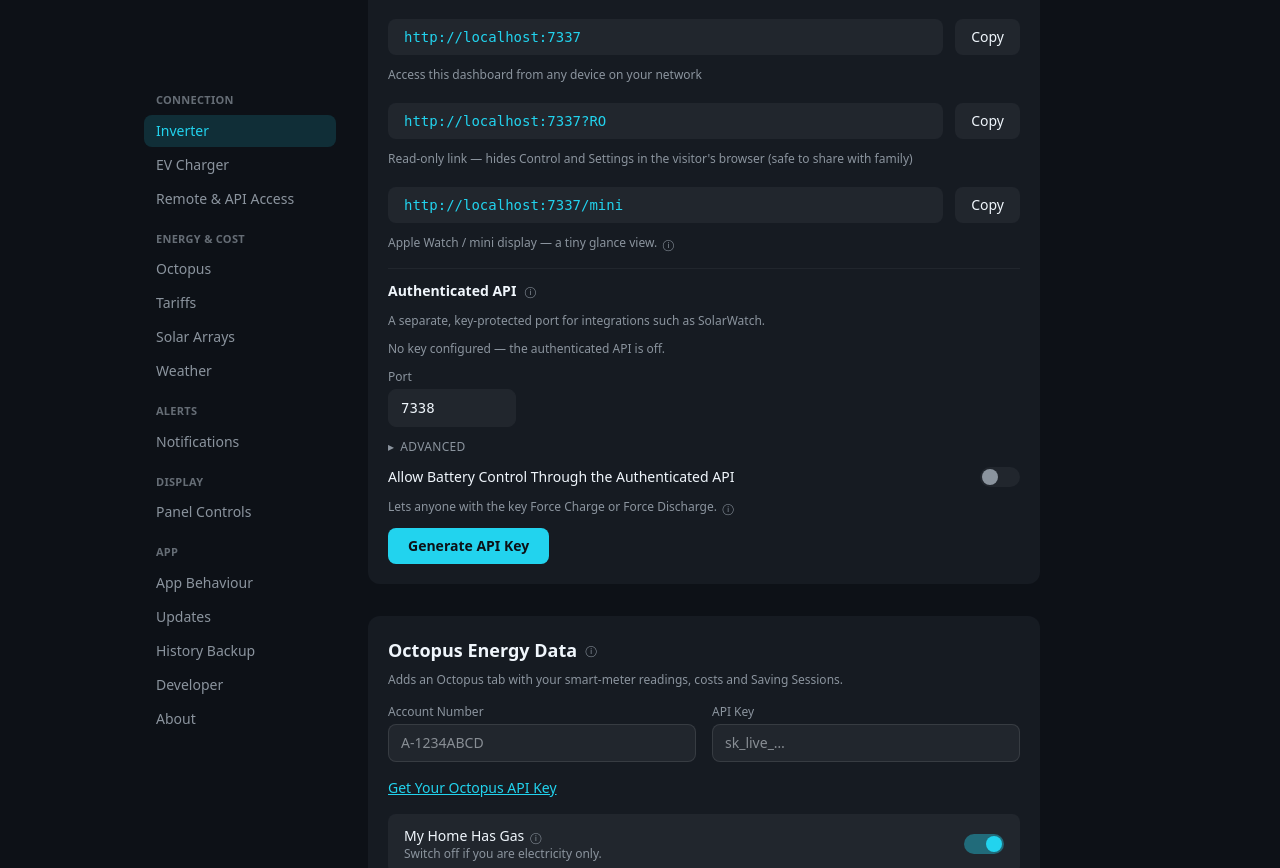
Test: <SettingsPage/> — save handlers & validation › refresh interval change › posts the new interval and flashes a success message
(page scrolled)
Click the button "▸ Advanced" at (427, 447), box [388,439,466,455]
(page scrolled)
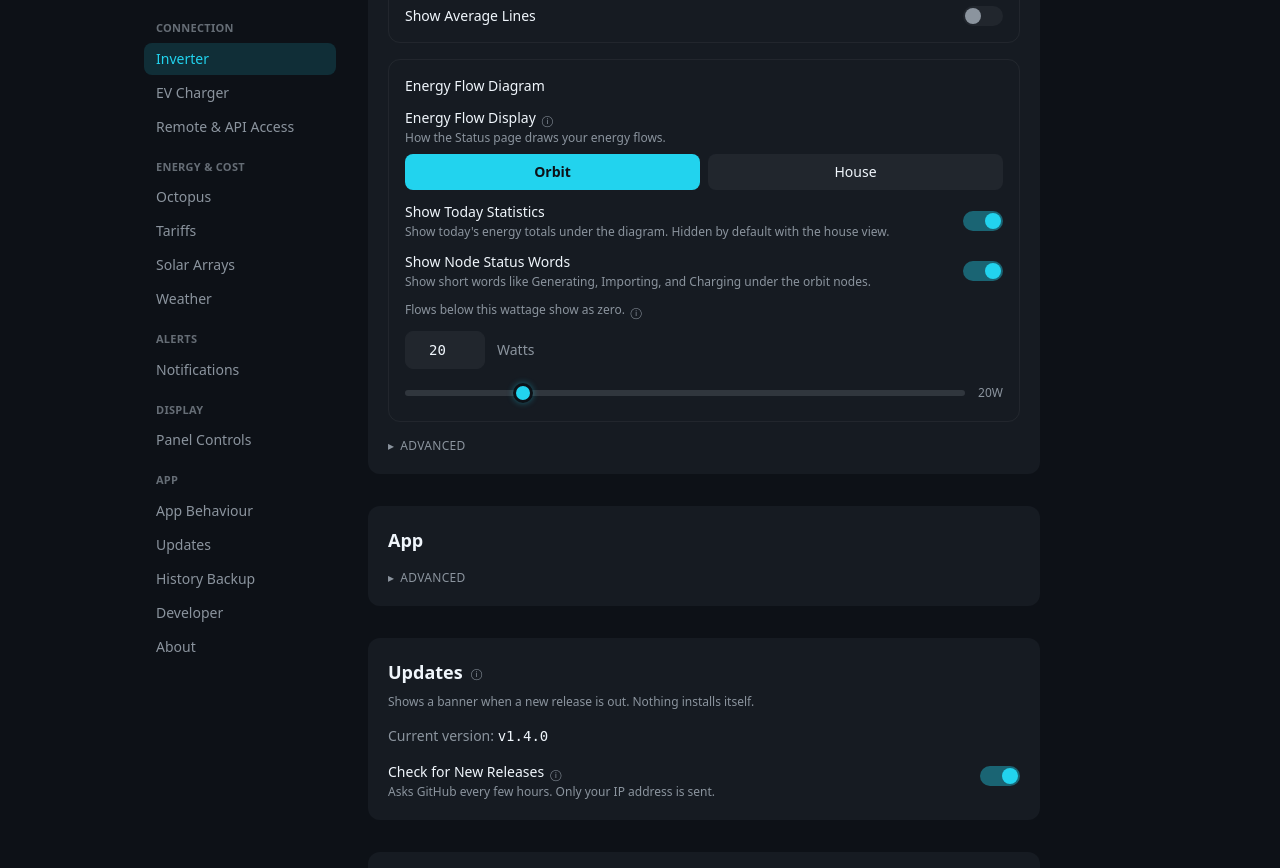
Click the button "▸ Advanced" below "Watts" at (427, 446), box [388,438,466,454]
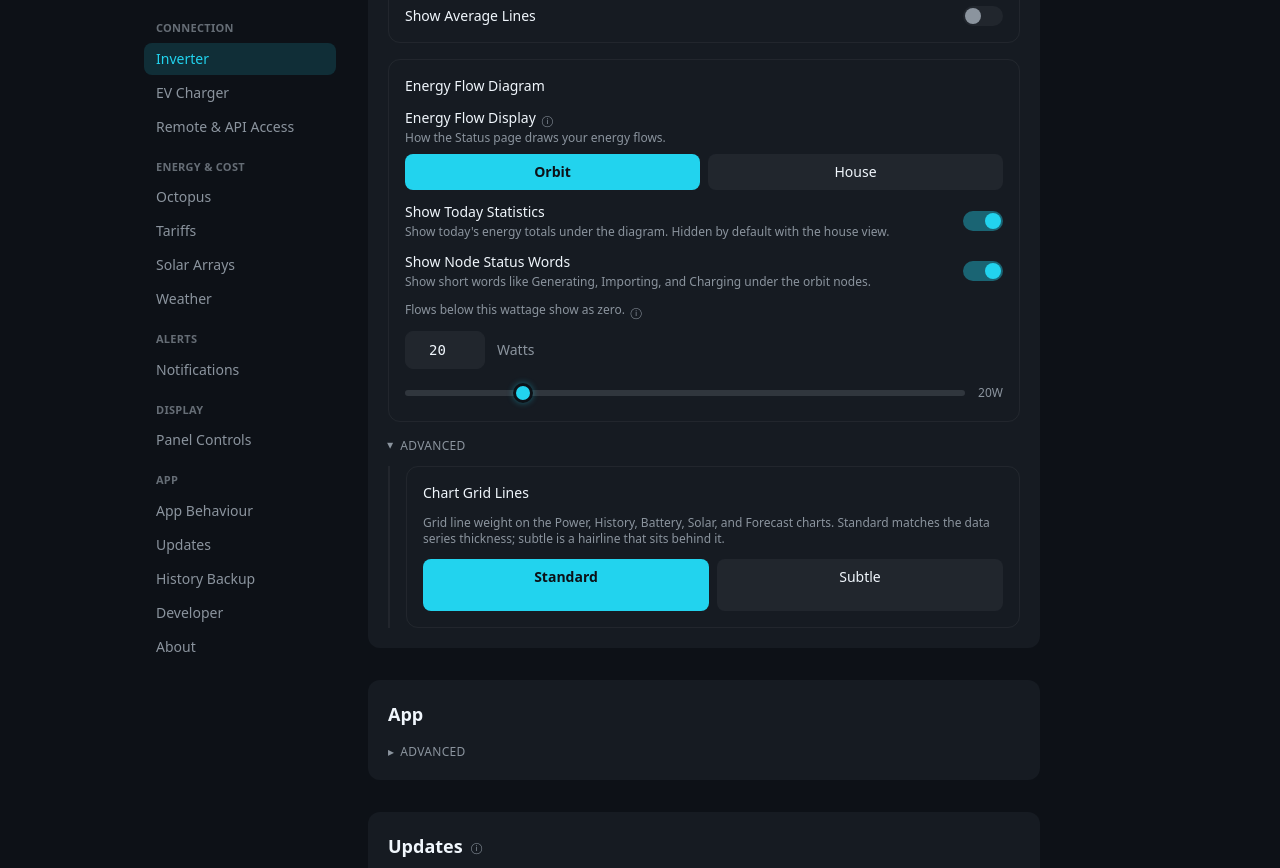
Click the 2nd button "▸ Advanced" at (427, 752), box [388,744,466,760]
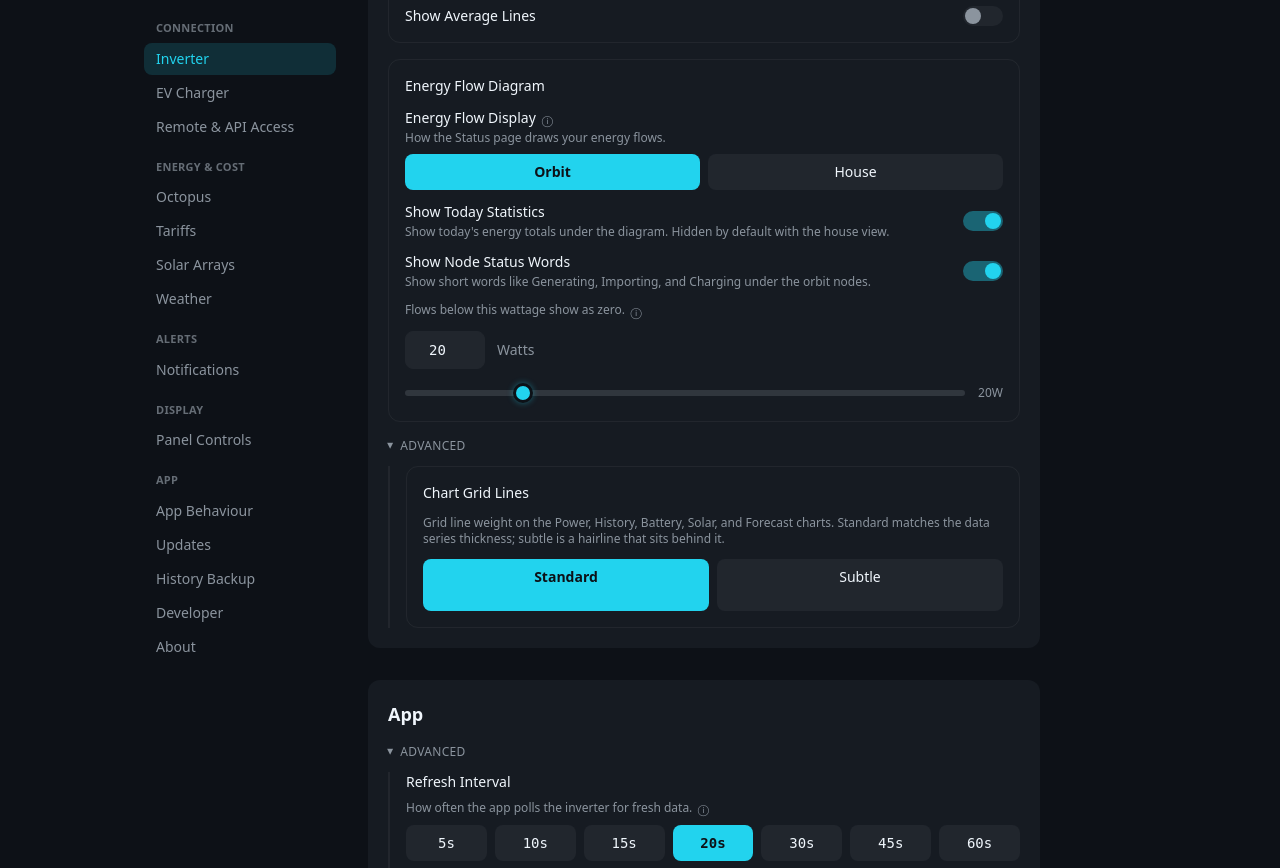
Result: the text "Refresh Interval" is shown at [406,772,510,791]
Click the button "15s" at (624, 843), box [584,825,665,861]
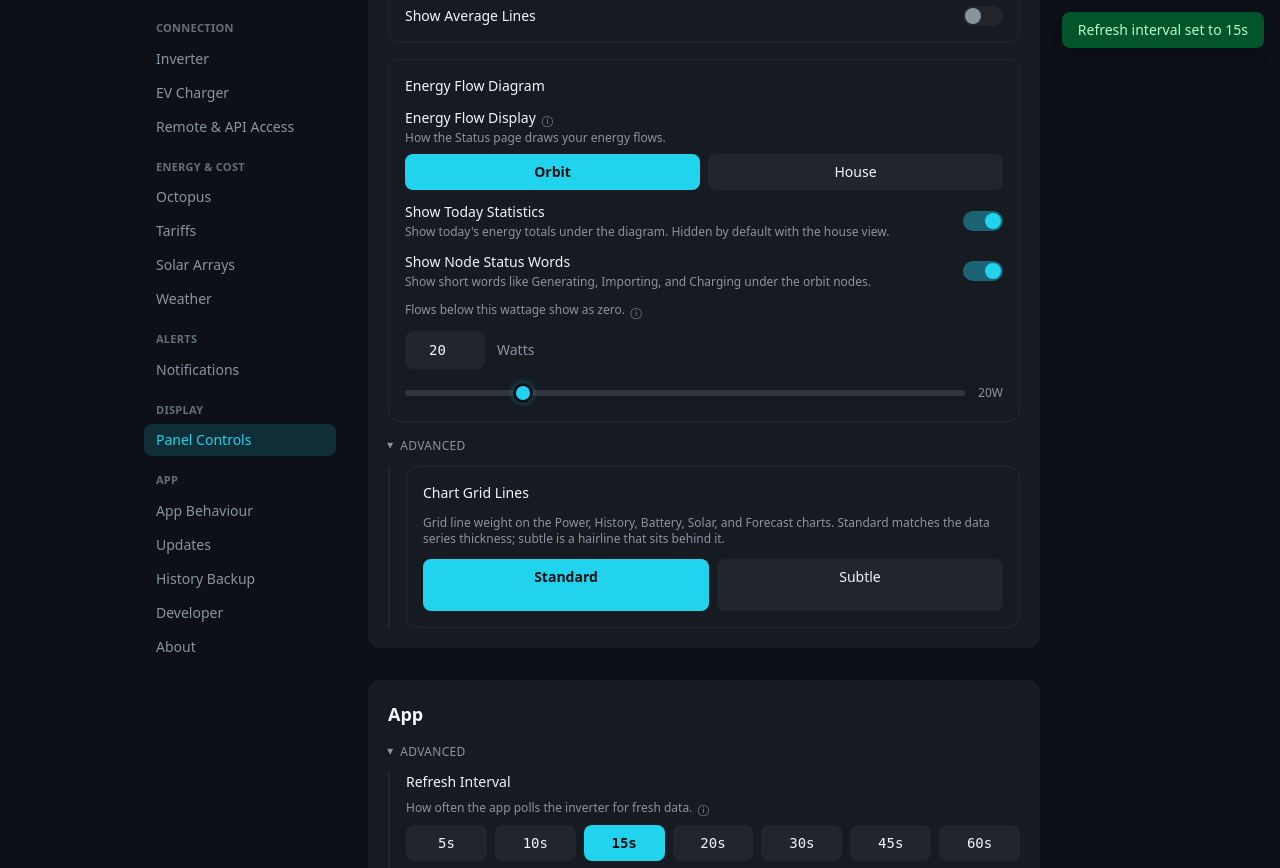
Result: the text "Refresh interval set to 15s" is shown at [1062,12,1264,48]
